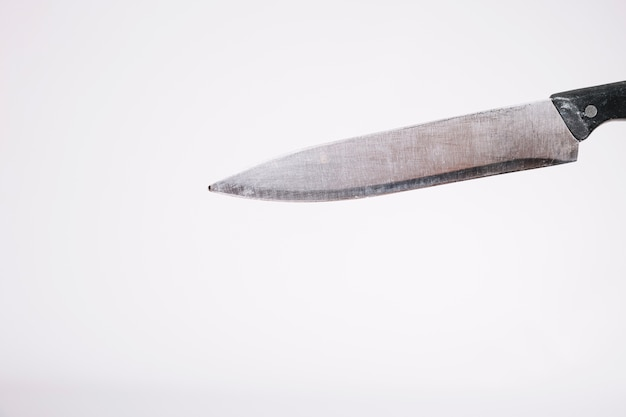knife: (203, 78, 626, 204)
